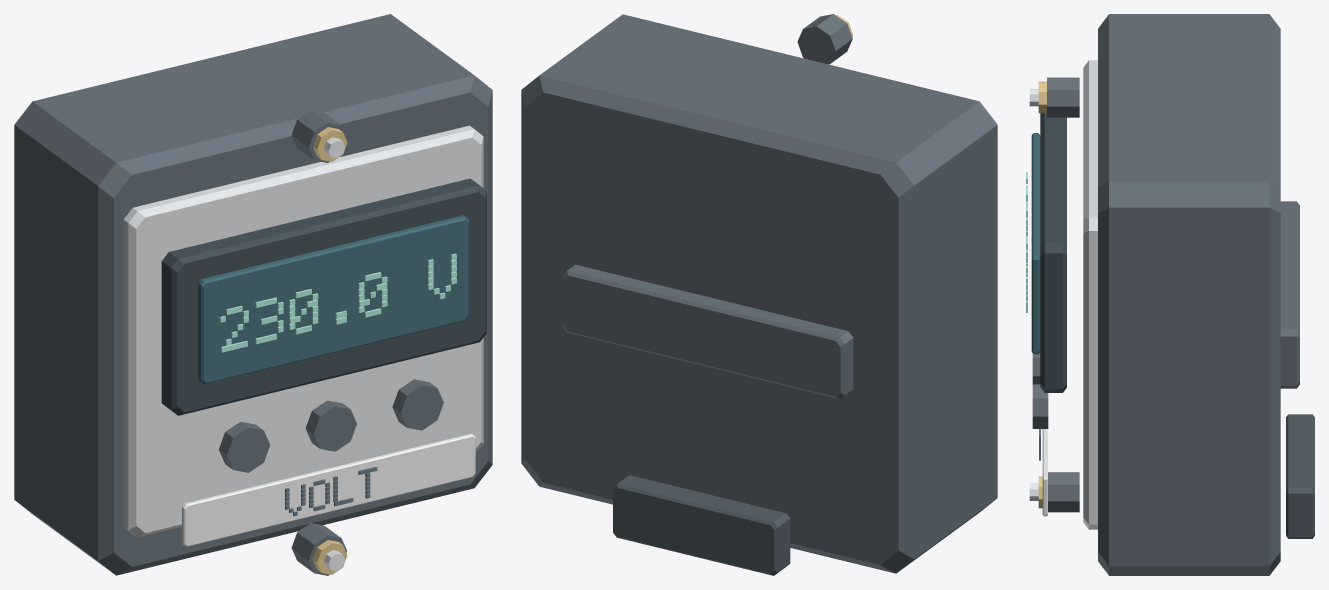
File: voltmeter.glb
3 renders of one model, left to right at view 1: azimuth 30°, elevation 25°; view 2: azimuth 150°, elevation 25°; view 3: azimuth 270°, elevation 25°, orthographic. The views are drawn at different scales.
Visible parts, largest first — view 1: voltmeter-board; view 2: voltmeter-board; view 3: voltmeter-board.
Part boxes in pixels (bbox=[...]): voltmeter-board: bbox=[14, 14, 492, 575]; voltmeter-board: bbox=[521, 14, 997, 575]; voltmeter-board: bbox=[1026, 14, 1314, 575].
Bounding box in the file's own units: 1.96 × 2.15 × 1.3.
